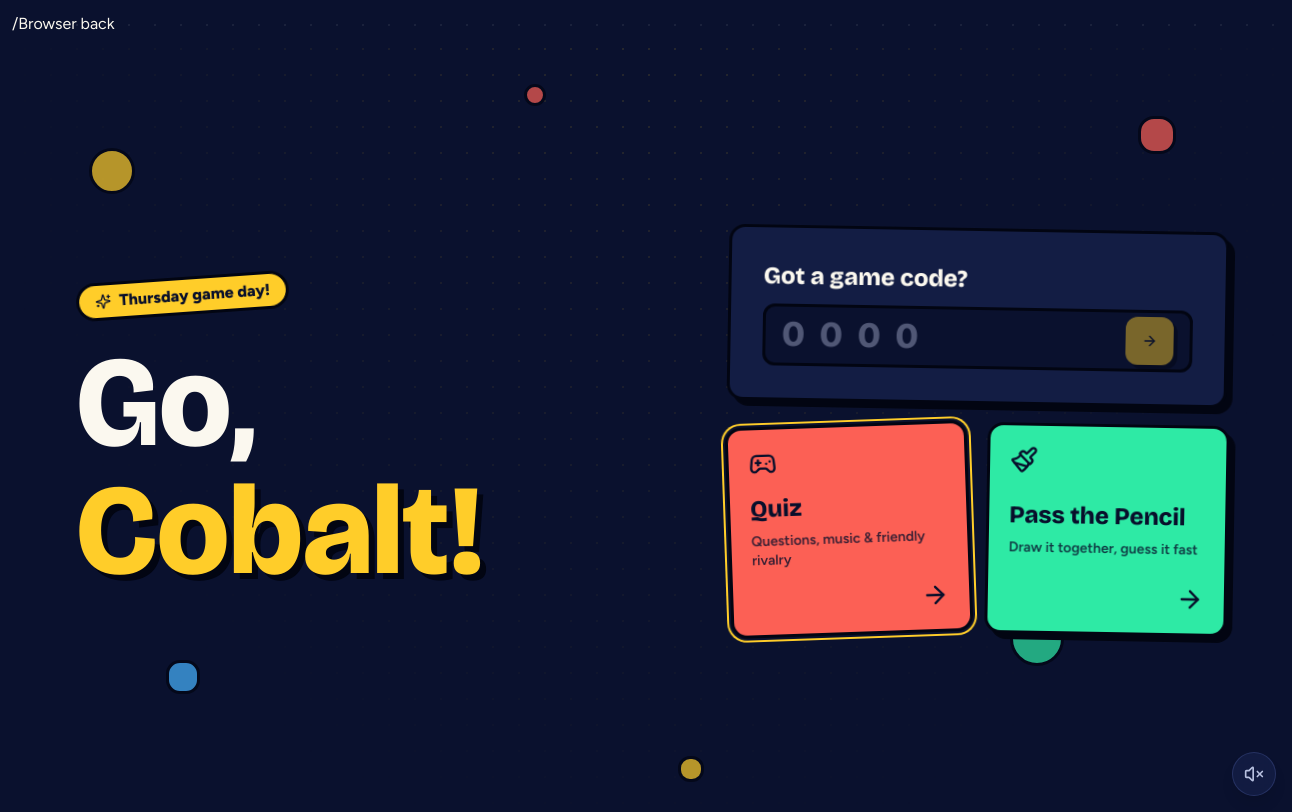
Test case: front-page game navigation › chooses a game before exposing actions or creating a session
Earlier steps of the test are not shown.
Click the button "Pass the Pencil Draw it together, guess it fast": (1107, 529) x1=984 y1=422 x2=1230 y2=637
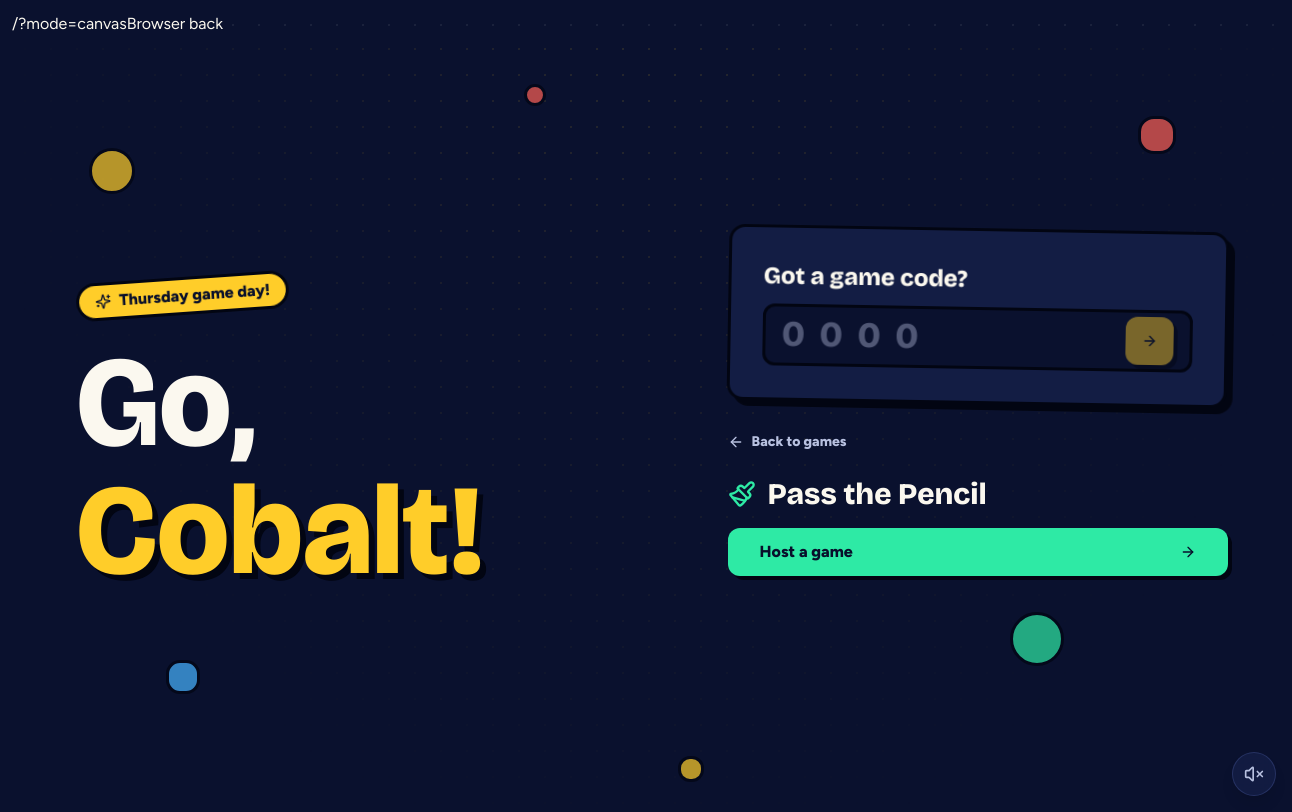
Expected: the button "Host a game" is shown, x1=728 y1=528 x2=1228 y2=576
